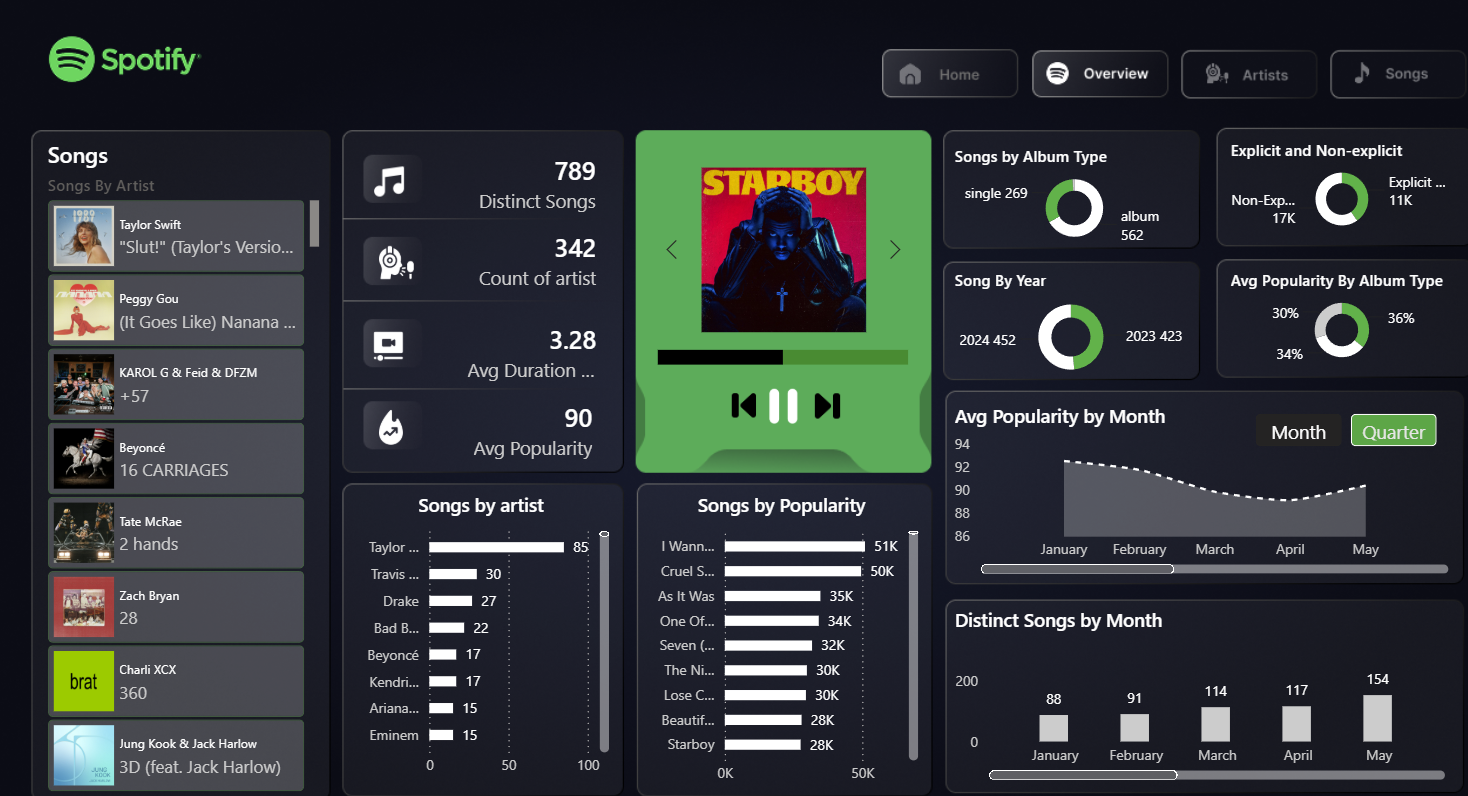

The page's visual inventory and layout, read from the dashboard file:
{"tool":"powerbi","page":{"name":"Overview","canvas":[1280,720],"ordinal":1},"visuals":[{"type":"clusteredBarChart","title":"Songs by artist","fields":{"Category":["Top-50-world.artist"],"Y":["_Measure.Distinct Songs"]},"box":[310.7,452.6,231.1,253.6],"z":0},{"type":"clusteredBarChart","title":"Songs by Popularity","fields":{"Category":["Top-50-world.song"],"Y":["Sum(Top-50-world.popularity)"]},"box":[562.5,452.6,245.8,260.5],"z":1000},{"type":"areaChart","fields":{"Category":["Top-50-world.date.Variation.Date Hierarchy.Month"],"Y":["_Measure.Avg Popularity"]},"box":[830,376.5,439.6,152.3],"z":2000},{"type":"advancedSlicerVisual","fields":{"Values":["Slicer_option.Slicer_option"]},"box":[1089.6,380.8,167,38.1],"z":3000},{"type":"donutChart","title":"Songs by Album Type","fields":{"Category":["Top-50-world.album_type"],"Y":["_Measure.Distinct Songs per Artist"]},"box":[830,154.1,216.4,90],"z":4000},{"type":"donutChart","title":"Explicit and Non-explicit","fields":{"Y":["_Measure.Explicit Songs","_Measure.Non-Explicit Songs"]},"box":[1068,148.9,201.6,84.8],"z":5000},{"type":"donutChart","title":"Song By Year ","fields":{"Category":["Top-50-world.date.Variation.Date Hierarchy.Year"],"Y":["_Measure.Distinct Songs"]},"box":[830,261.4,210.3,98.7],"z":6000},{"type":"donutChart","title":"Avg Popularity By Album Type","fields":{"Category":["Top-50-world.album_type"],"Y":["_Measure.Avg Popularity"]},"box":[1068,261.4,201.6,86.5],"z":7000},{"type":"clusteredColumnChart","fields":{"Category":["Top-50-world.date.Variation.Date Hierarchy.Month"],"Y":["_Measure.Distinct Songs"]},"box":[830,552.2,432.7,154.1],"z":8000},{"type":"cardVisual","fields":{"Data":["_Measure.Distinct Songs"]},"box":[383.4,138.5,171.4,95.2],"z":9000},{"type":"cardVisual","fields":{"Data":["Count(Top-50-world.artist)"]},"box":[385.1,200.8,169.6,103.9],"z":10000},{"type":"cardVisual","fields":{"Data":["_Measure.Avg Duration Minutes"]},"box":[385.1,280.4,169.6,103.9],"z":11000},{"type":"cardVisual","fields":{"Data":["_Measure.Avg Popularity"]},"box":[383.4,347.9,168.8,103.9],"z":12000},{"type":"image","box":[338.4,376.5,30.3,41.5],"z":13000},{"type":"image","box":[338.4,229.3,30.3,51.1],"z":14000},{"type":"image","box":[334.1,162.7,26,43.3],"z":15000},{"type":"image","box":[331.5,306.4,30.3,41.5],"z":16000},{"type":"advancedSlicerVisual","title":"Songs","fields":{"Values":["Top-50-world.song"]},"box":[47.6,148.9,244.9,571.2],"z":17000},{"type":"advancedSlicerVisual","title":"Songs","fields":{"Values":["Top-50-world.song"]},"box":[575.5,162.7,223.3,162.7],"z":18000},{"type":"image","box":[712.3,338.4,25.1,80.5],"z":19000},{"type":"image","box":[640.4,338.4,24.2,80.5],"z":20000},{"type":"image","box":[671.6,334.1,30.3,90],"z":21000},{"type":"hundredPercentStackedBarChart","fields":{"Y":["_Measure.Avg Popularity","Avg(Top-50-world.popularity)"]},"box":[573.8,300.3,225.9,65.8],"z":22000},{"type":"actionButton","box":[772,72.7,118.6,41.5],"z":23000},{"type":"actionButton","box":[899.2,72.7,118.6,41.5],"z":24000},{"type":"actionButton","box":[1029,72.7,118.6,41.5],"z":25000},{"type":"actionButton","box":[1156.2,72.7,118.6,41.5],"z":26000},{"type":"shape","box":[614.1,170.8,147.5,147.5],"z":27000}]}

Visuals, with their boxes on the page's 1280x720 design canvas (x1, y1, x2, y2). These are canvas units, not pixel positions in the 1468x796 screenshot, which may show the page scaled, cropped or inside an application window:
"Songs by artist" clusteredBarChart: [311,453,542,706]
"Songs by Popularity" clusteredBarChart: [562,453,808,713]
areaChart - Top-50-world.date.Variation.Date Hierarchy.Month x _Measure.Avg Popularity: [830,376,1270,529]
advancedSlicerVisual - Slicer_option.Slicer_option: [1090,381,1257,419]
"Songs by Album Type" donutChart: [830,154,1046,244]
"Explicit and Non-explicit" donutChart: [1068,149,1270,234]
"Song By Year " donutChart: [830,261,1040,360]
"Avg Popularity By Album Type" donutChart: [1068,261,1270,348]
clusteredColumnChart - Top-50-world.date.Variation.Date Hierarchy.Month x _Measure.Distinct Songs: [830,552,1263,706]
cardVisual - _Measure.Distinct Songs: [383,138,555,234]
cardVisual - Count(Top-50-world.artist): [385,201,555,305]
cardVisual - _Measure.Avg Duration Minutes: [385,280,555,384]
cardVisual - _Measure.Avg Popularity: [383,348,552,452]
image: [338,376,369,418]
image: [338,229,369,280]
image: [334,163,360,206]
image: [332,306,362,348]
"Songs" advancedSlicerVisual: [48,149,292,720]
"Songs" advancedSlicerVisual: [576,163,799,325]
image: [712,338,737,419]
image: [640,338,665,419]
image: [672,334,702,424]
hundredPercentStackedBarChart - _Measure.Avg Popularity x Avg(Top-50-world.popularity): [574,300,800,366]
actionButton: [772,73,891,114]
actionButton: [899,73,1018,114]
actionButton: [1029,73,1148,114]
actionButton: [1156,73,1275,114]
shape: [614,171,762,318]
